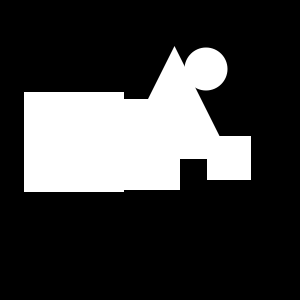circle: (24, 92, 124, 192), (89, 99, 180, 190), (207, 136, 251, 180)
rectangle: (184, 48, 228, 91)
triangle: (118, 46, 231, 159)
